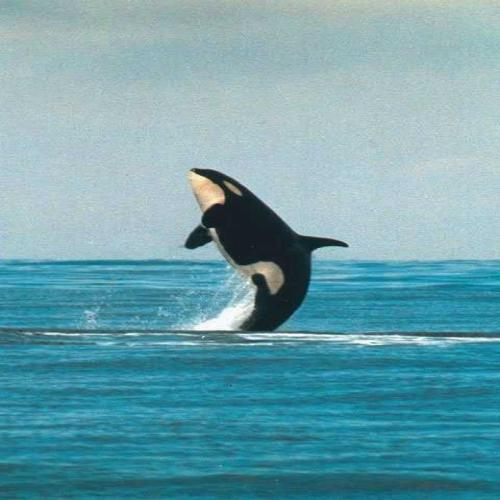killer_whale-endangered: (160, 135, 357, 342)
